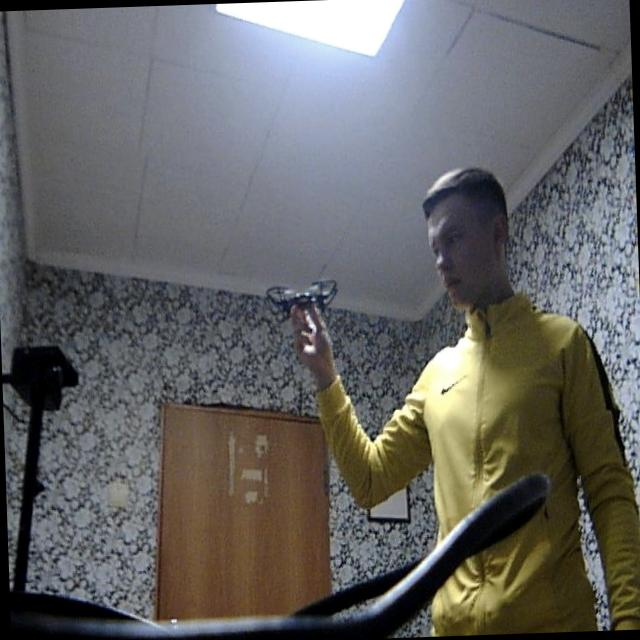drone: (262, 260, 344, 326)
